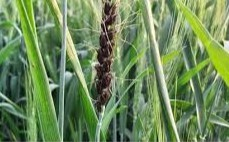Wheat Loose Smut: (93, 1, 122, 110)
